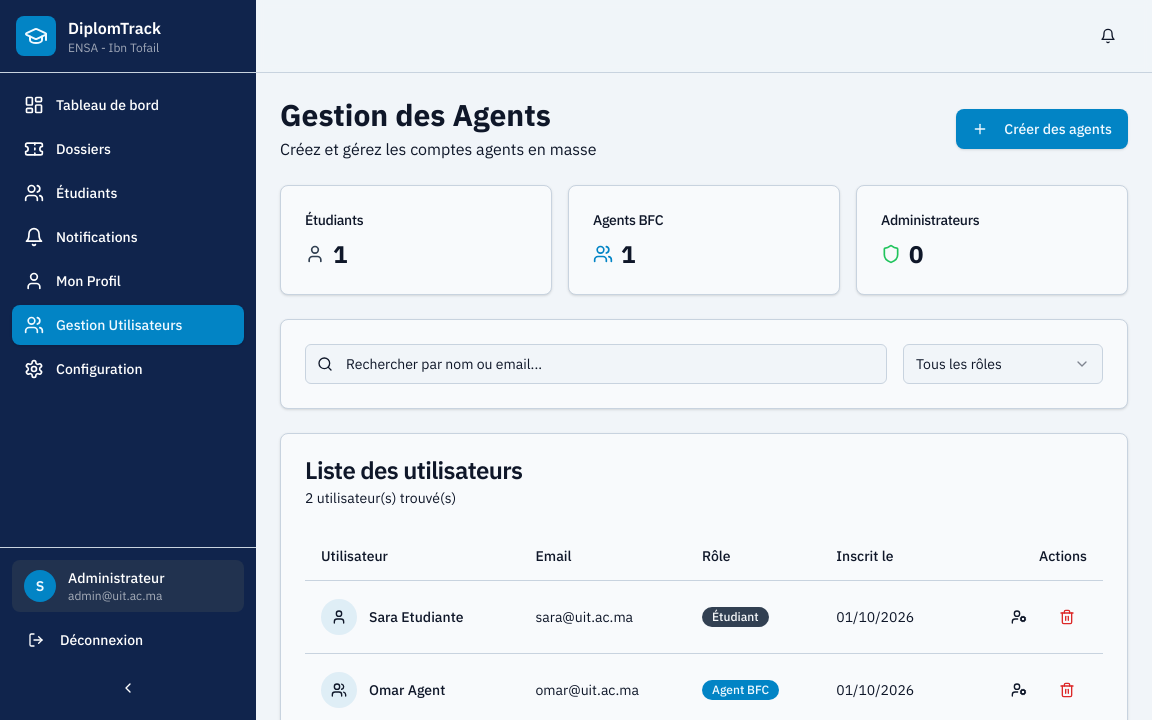
AdminUsers › promotes a student to agent through PUT /admin/users/<id>
This screenshot has width=1152, height=720.
What coordinates should you click on to do the following:
click the button named "Modifier le rôle" in the row of "Sara Etudiante"
I would click on:
 (1019, 616)
Its box is [999, 596, 1039, 636].
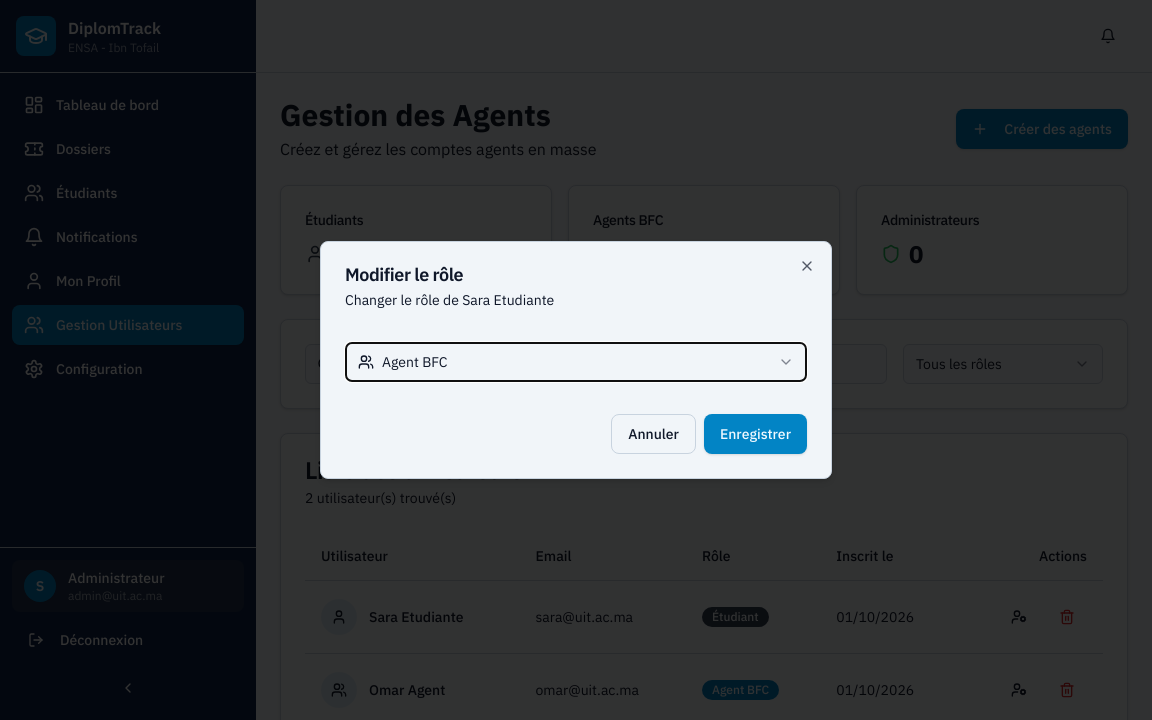
Expected: the text "Changer le rôle de Sara Etudiante" is shown, [345, 291, 554, 309]
What coordinates should you click on to do the following:
click the button "Enregistrer"
I would click on:
 (755, 434)
Its box is [704, 414, 807, 454].
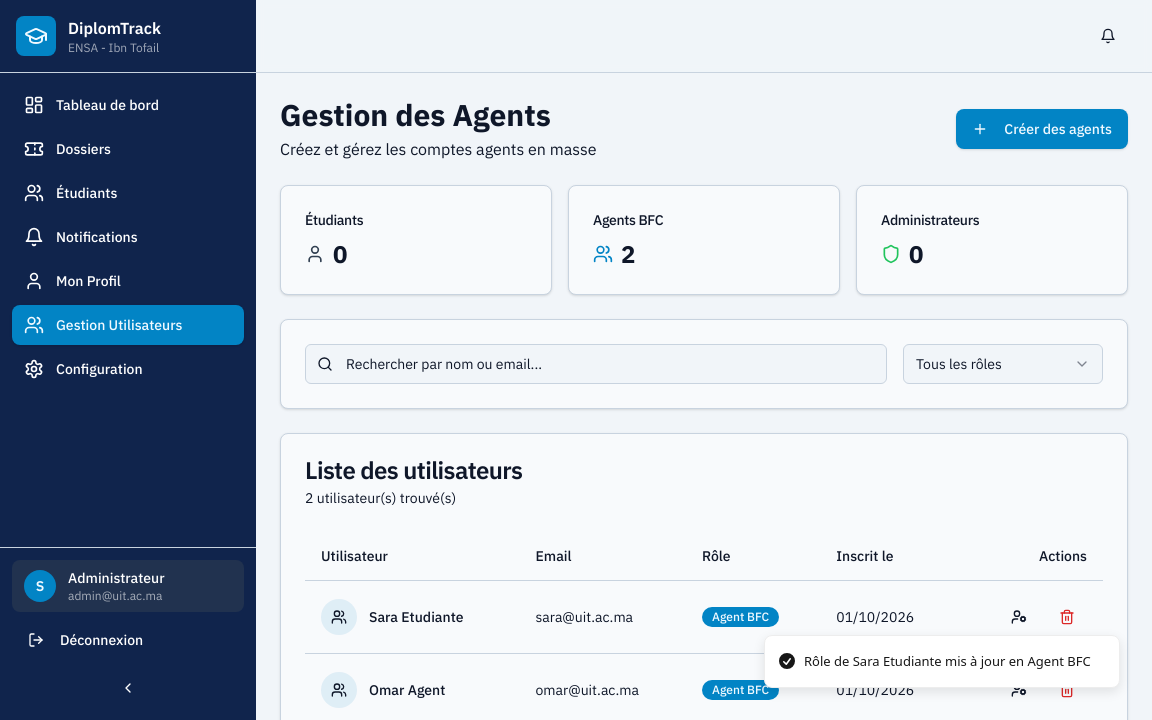
Expected: the text "Rôle de Sara Etudiante mis à jour en Agent BFC" is shown, [804, 652, 1091, 671]
